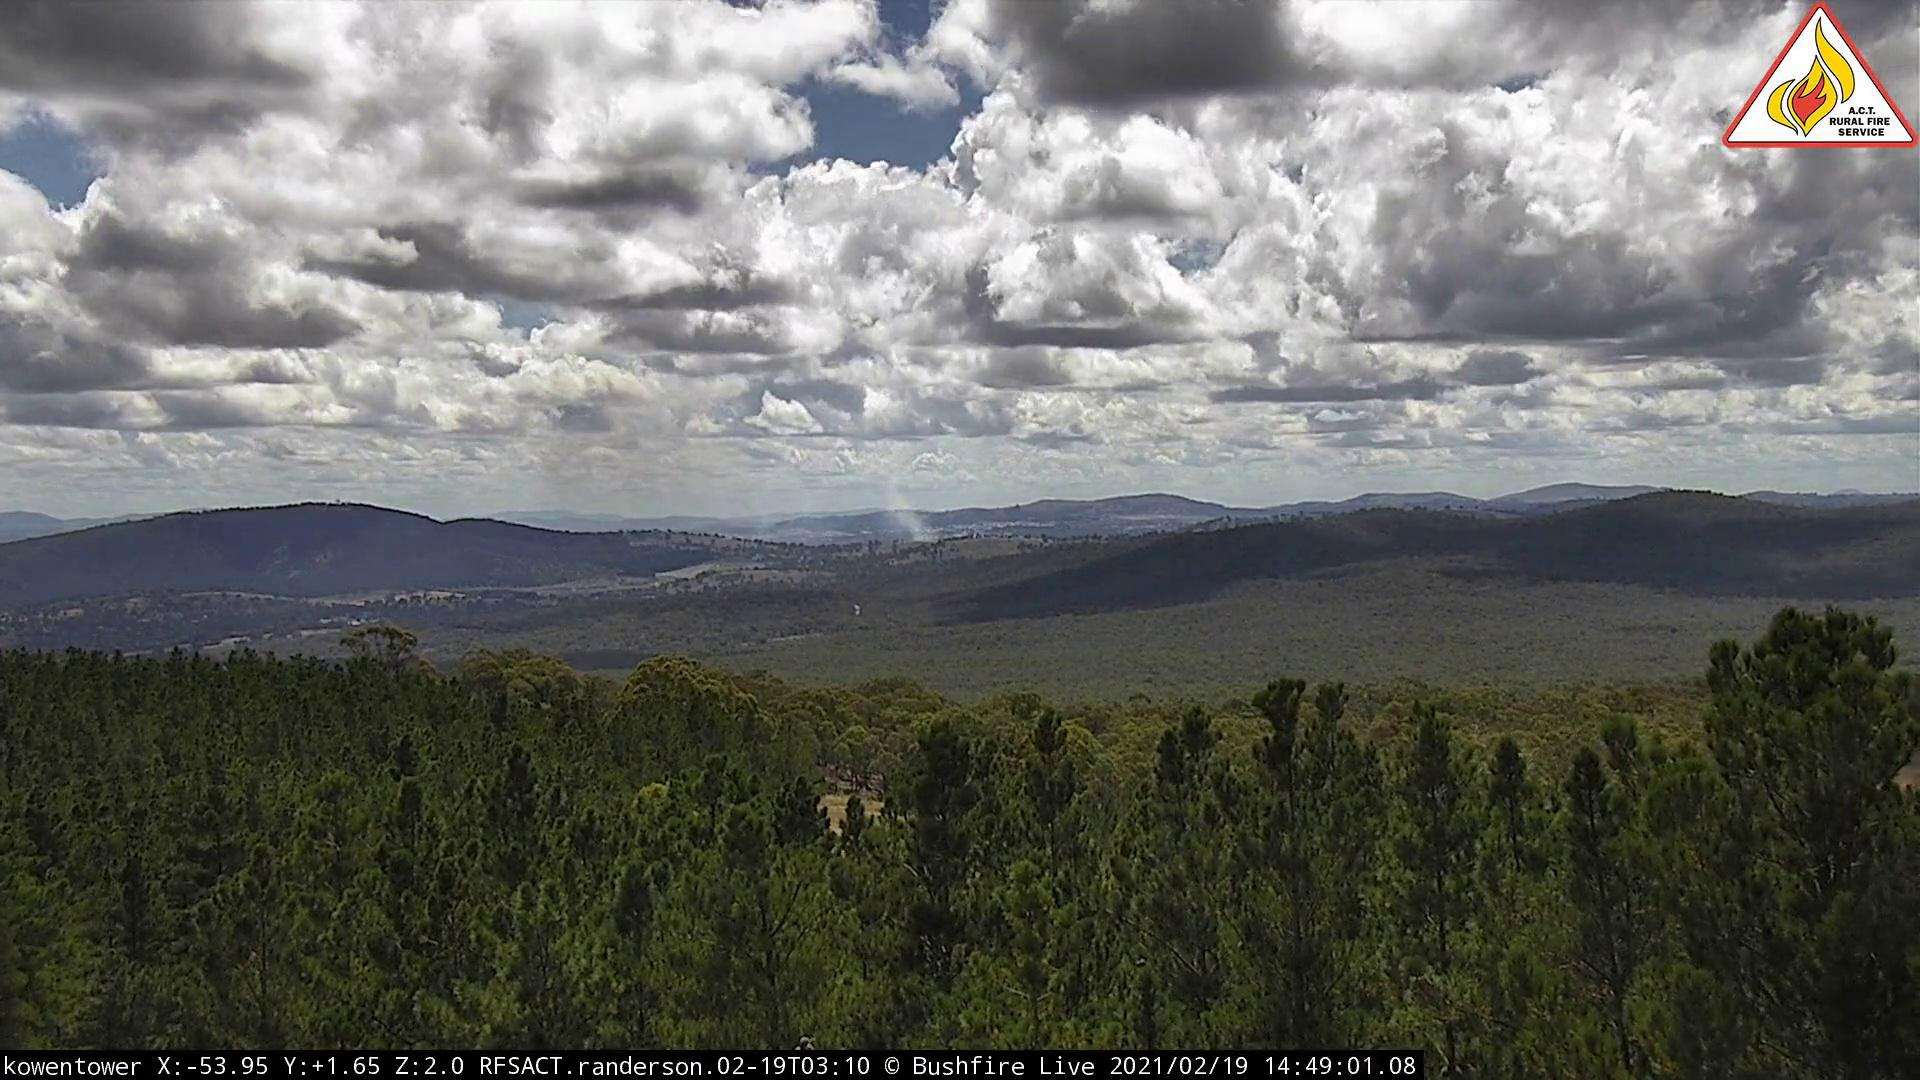Smoke: (512, 385, 945, 551)
